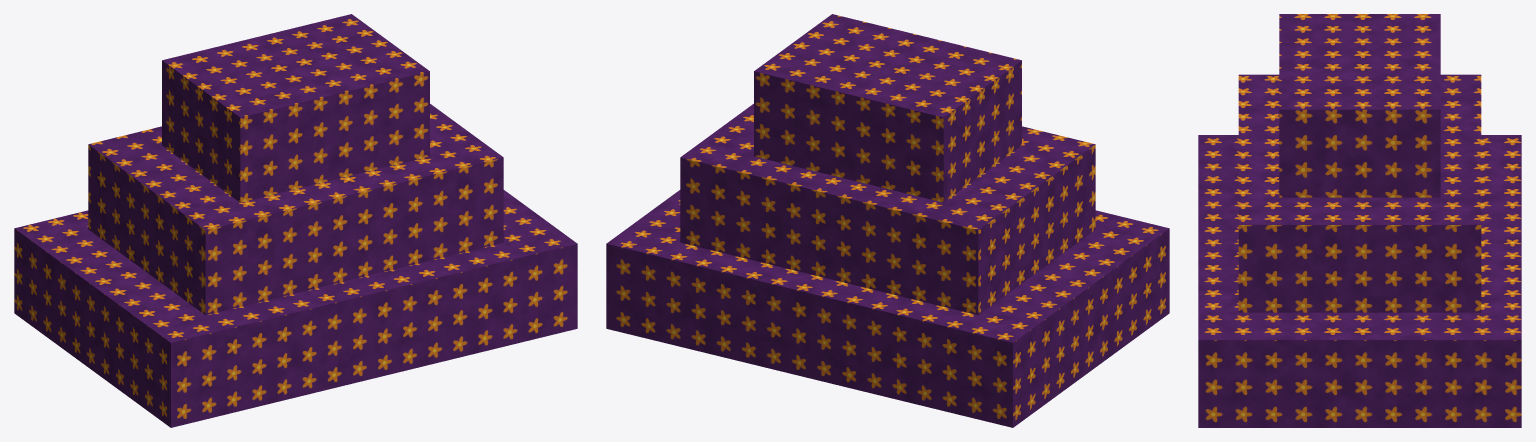
Rendered from altar.obj.
3 renders of one model, left to right at view 1: azimuth 30°, elevation 25°; view 2: azimuth 150°, elevation 25°; view 3: azimuth 270°, elevation 25°, orthographic. The views are drawn at different scales.
Parts seen in each view (by area): view 1: Cube.002; view 2: Cube.002; view 3: Cube.002.
Part boxes in pixels (x1,y1,x2,y2): Cube.002: (14,14,577,427); Cube.002: (606,14,1169,427); Cube.002: (1198,14,1521,427).
Bounding box in the file's own units: 1.21 × 0.729 × 0.8099.
Materials: 1 (1 with a texture image).
